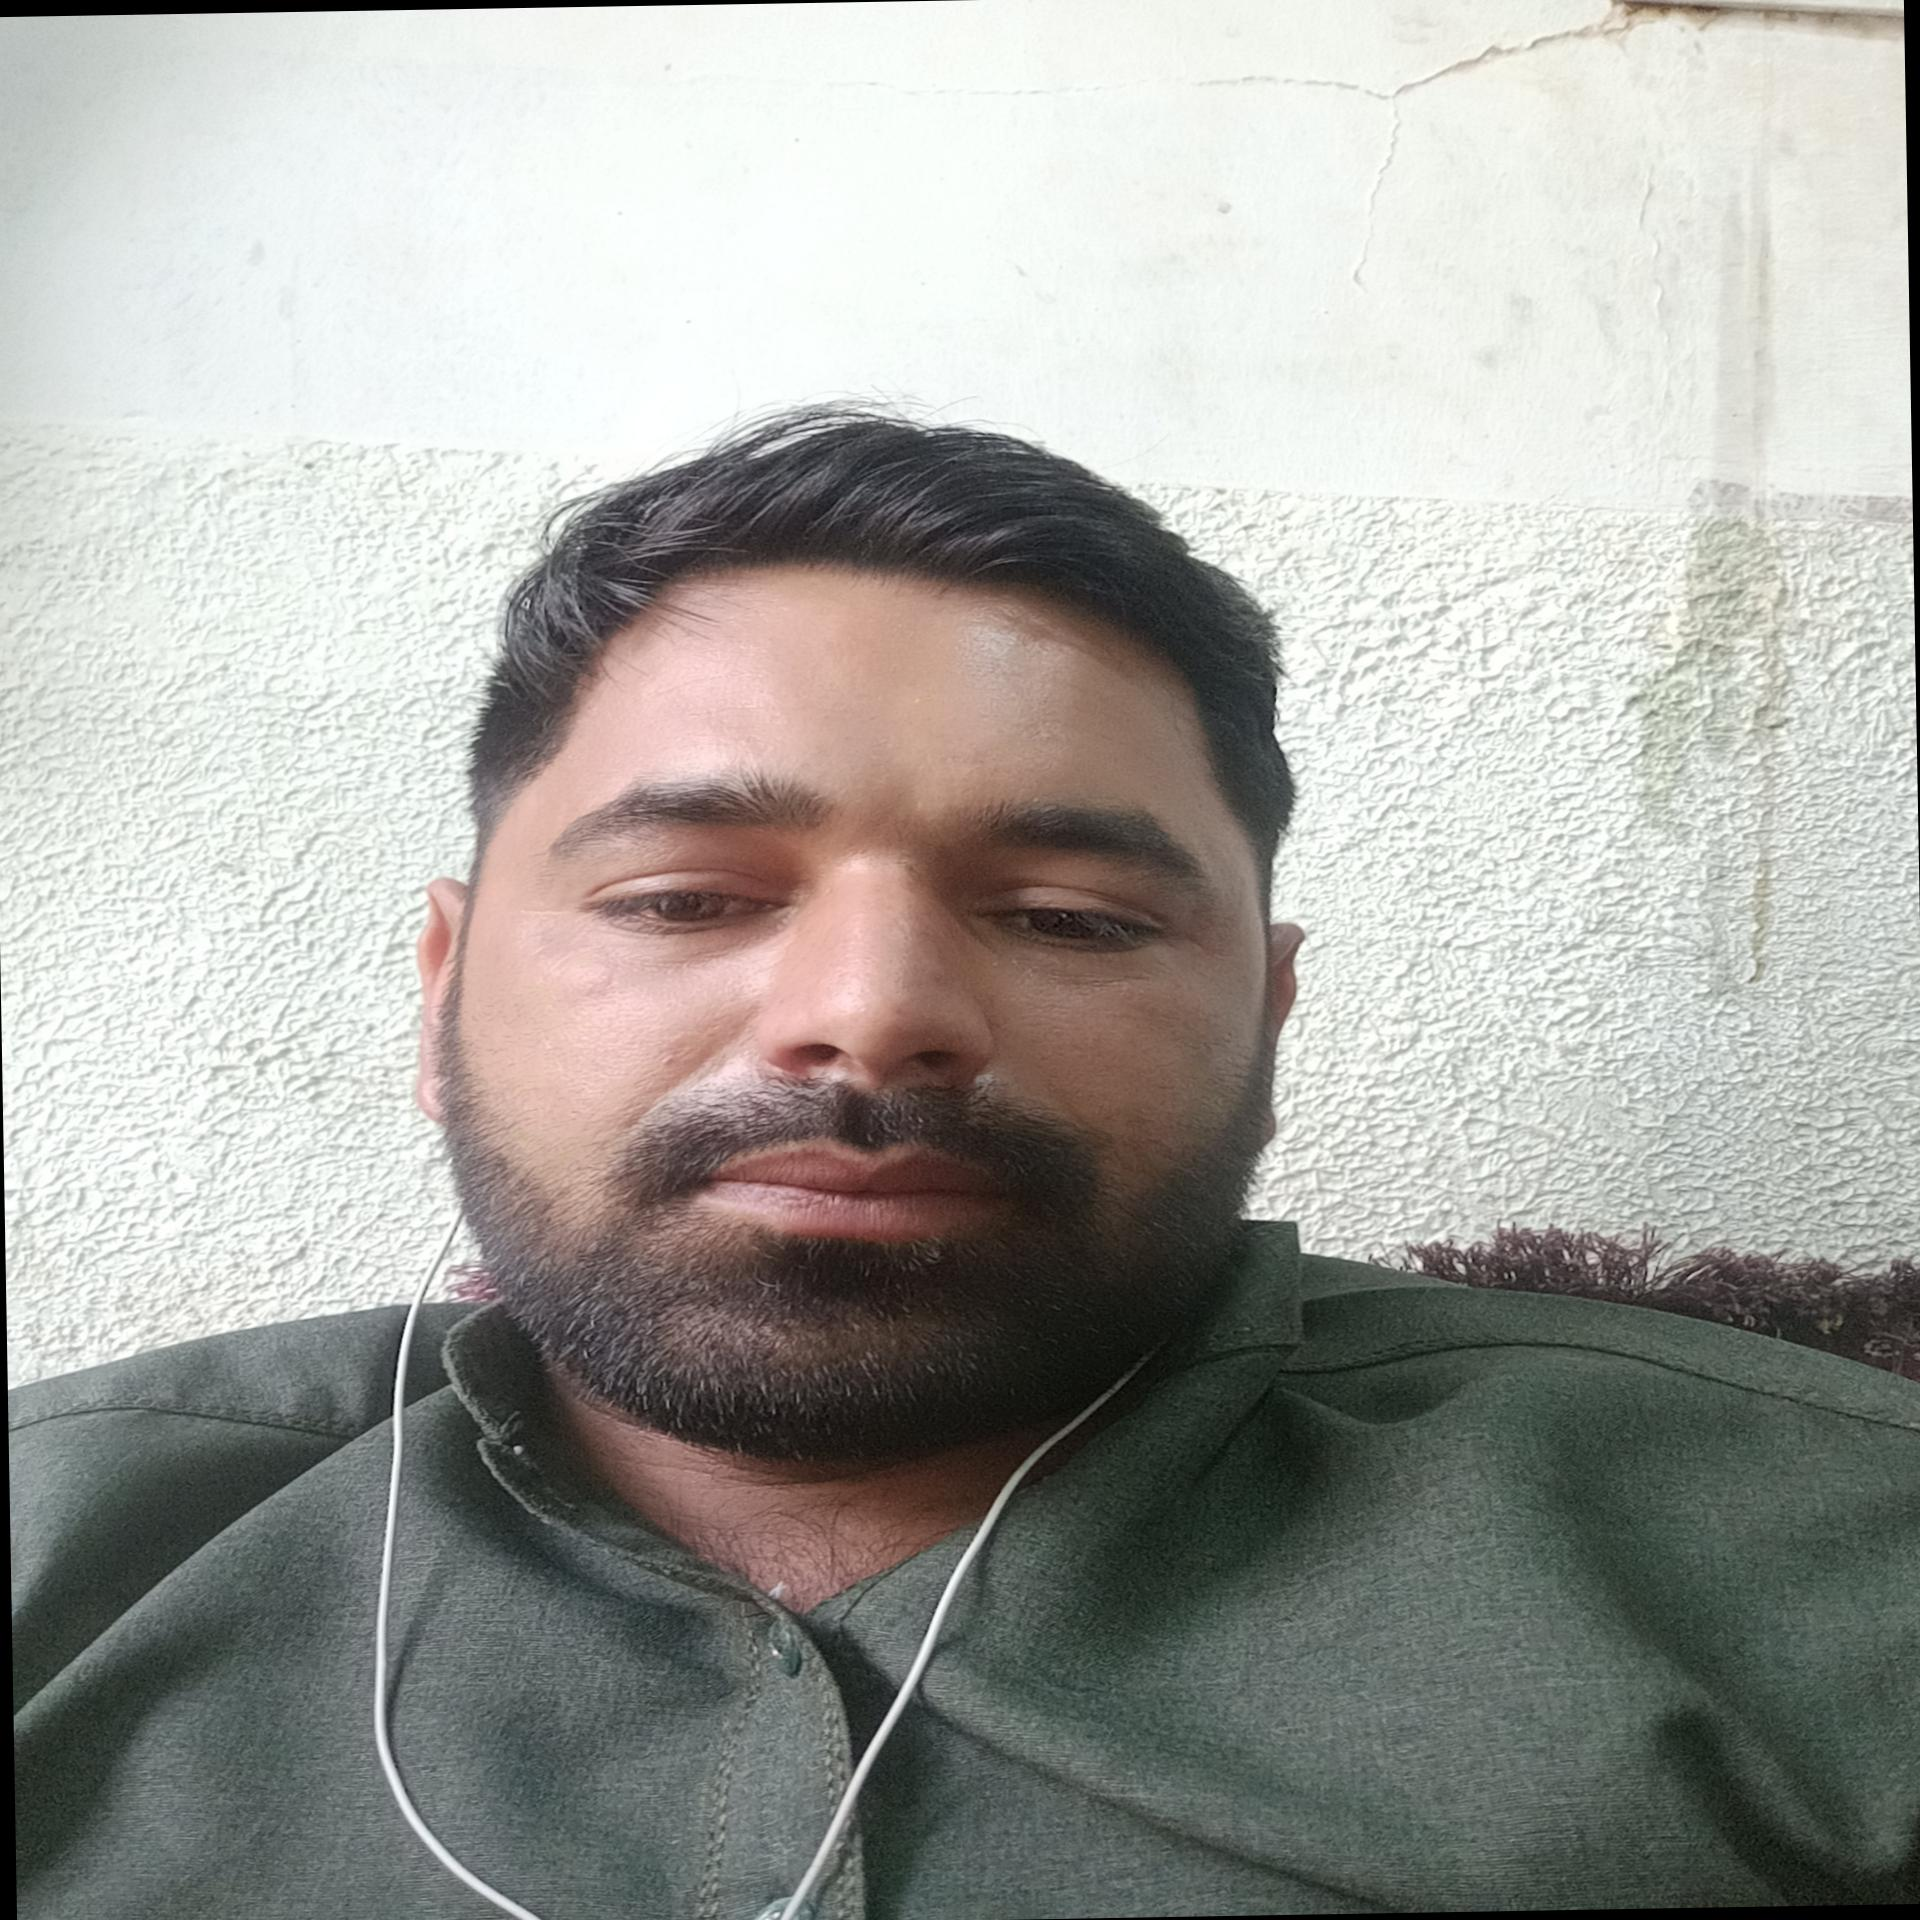Englarged Pores: (554, 981, 686, 1094), (1006, 948, 1118, 1041), (837, 809, 937, 870)
Wrinkles: (621, 1027, 742, 1136), (1006, 714, 1152, 777), (1041, 1073, 1131, 1160), (972, 656, 1106, 700), (666, 703, 860, 723), (652, 666, 774, 696), (542, 948, 580, 976), (1180, 927, 1210, 955), (520, 925, 557, 946), (515, 907, 575, 918), (527, 937, 557, 956), (1160, 939, 1187, 955)
